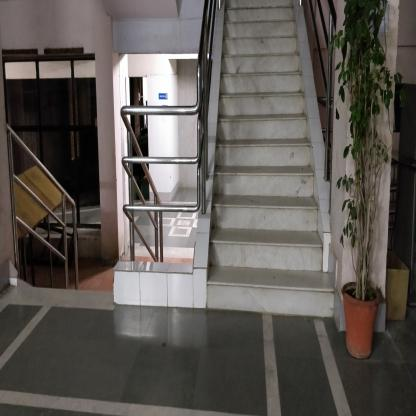stairs: (229, 14, 295, 333)
